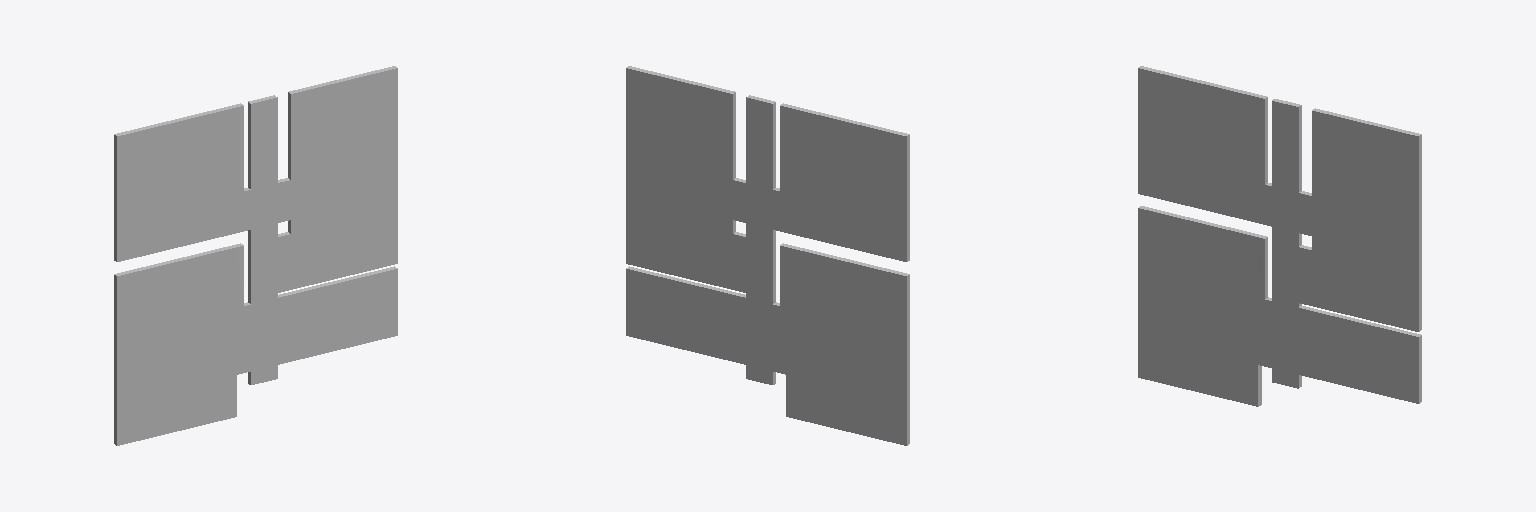
File: basement.obj
3 views of the same model, side by side, from view 1: azimuth 30°, elevation 25°; view 2: azimuth 150°, elevation 25°; view 3: azimuth 330°, elevation 25° (orthographic).
Parts seen in each view (by area): view 1: testBasements; view 2: testBasements; view 3: testBasements.
Part boxes in pixels (x1,y1,x2,y2): testBasements: (114, 66, 397, 445); testBasements: (626, 66, 909, 445); testBasements: (1138, 66, 1421, 406).
Bounding box in the file's own units: 16.42 × 17.31 × 0.3149.